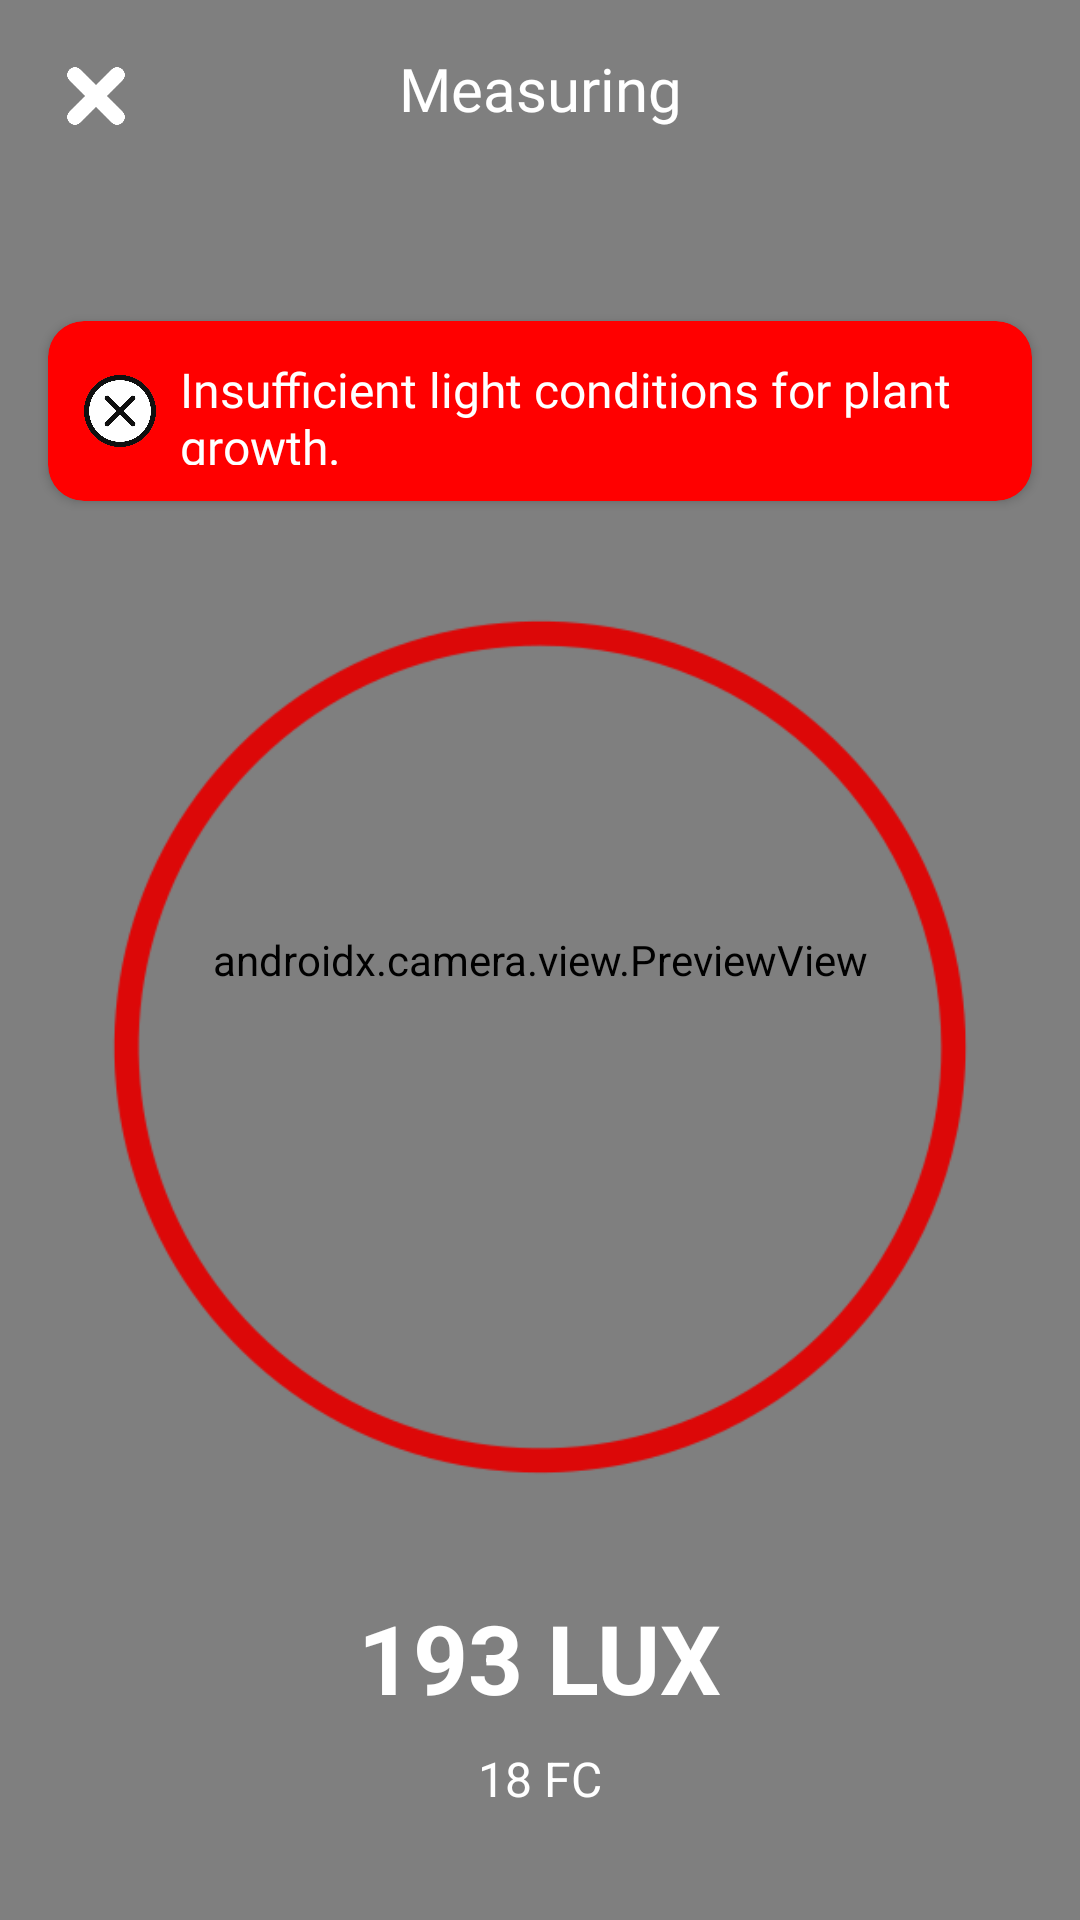

Screen size 1080x1920. Icon name, then its box in pixels as [left=x1, top=y1, right=x2, bottom=y2]:
close: [left=67, top=67, right=125, bottom=125]
